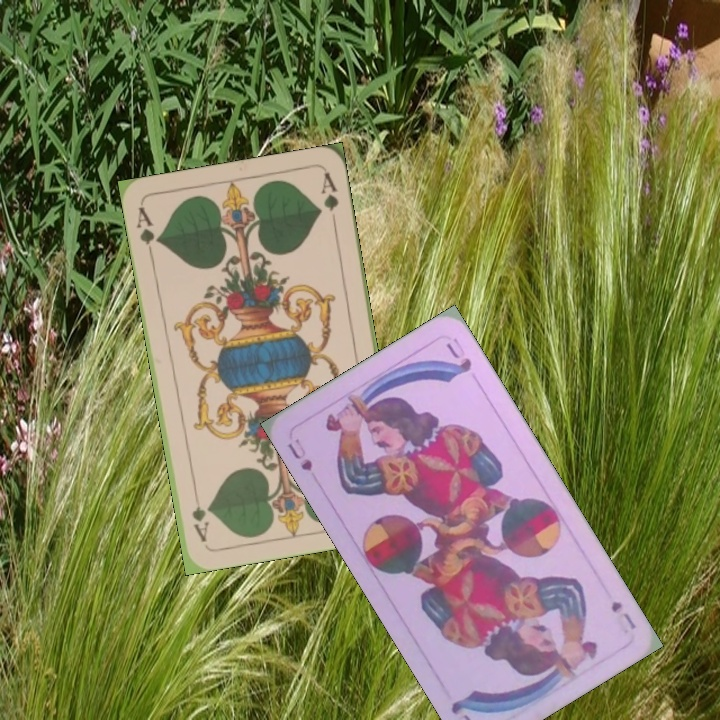GA: (132, 203, 162, 261)
SU: (284, 434, 316, 474), (606, 596, 639, 633)
